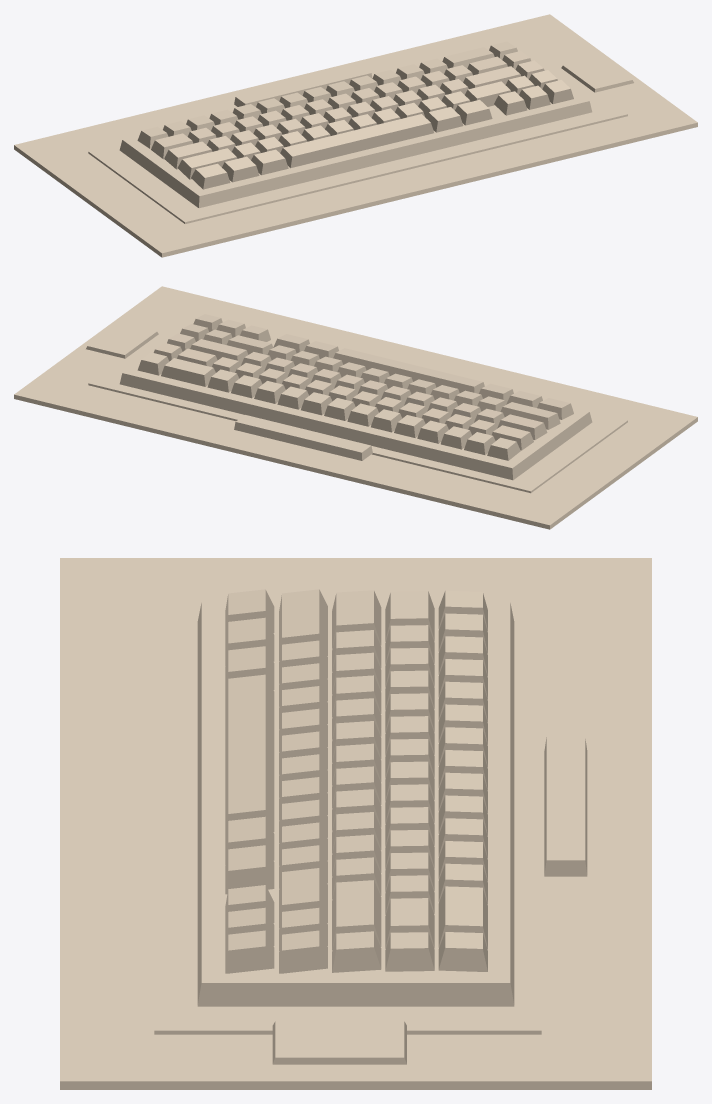
File: keyboard_65_0ccf7c9d.glb
The picture shows the model from 3 angles, top to bottom: view 1: azimuth 30°, elevation 25°; view 2: azimuth 150°, elevation 25°; view 3: azimuth 270°, elevation 25°; orthographic projection. The views are drawn at different scales.
Visible parts, largest first — view 1: desk; view 2: desk; view 3: desk.
Part boxes in pixels (box(x1,y1,x2,y2)): desk: box(14, 14, 697, 257); desk: box(14, 286, 697, 529); desk: box(60, 558, 651, 1089).
Size of the model in its own units: 23 by 1.24 by 11.
